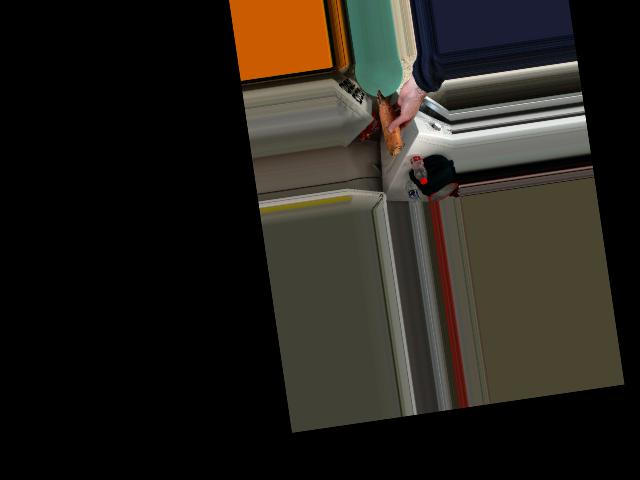sweet_potato: (371, 85, 409, 161)
